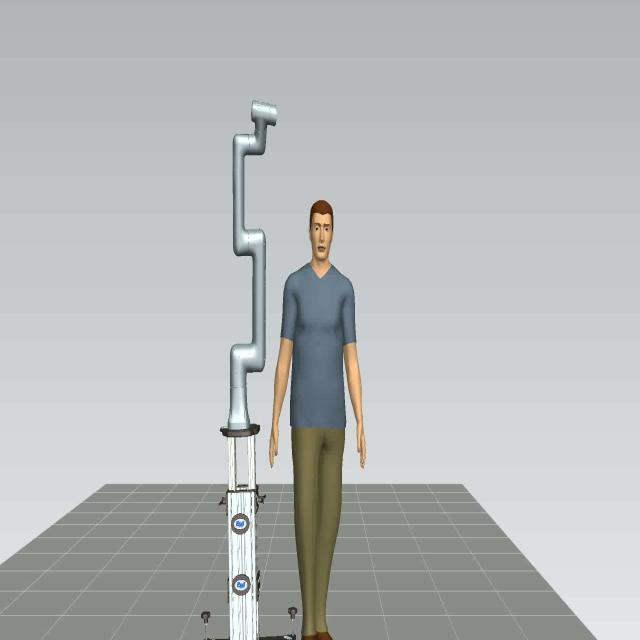human: (268, 199, 366, 638)
robot: (201, 97, 278, 437)
